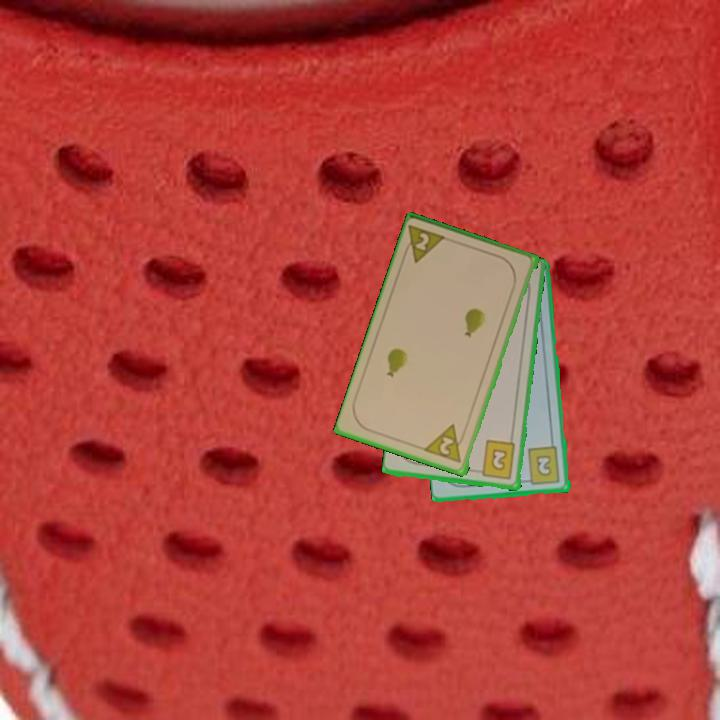2b: (473, 438, 518, 482), (521, 444, 563, 488)
2p: (399, 222, 451, 266), (422, 421, 468, 467)
